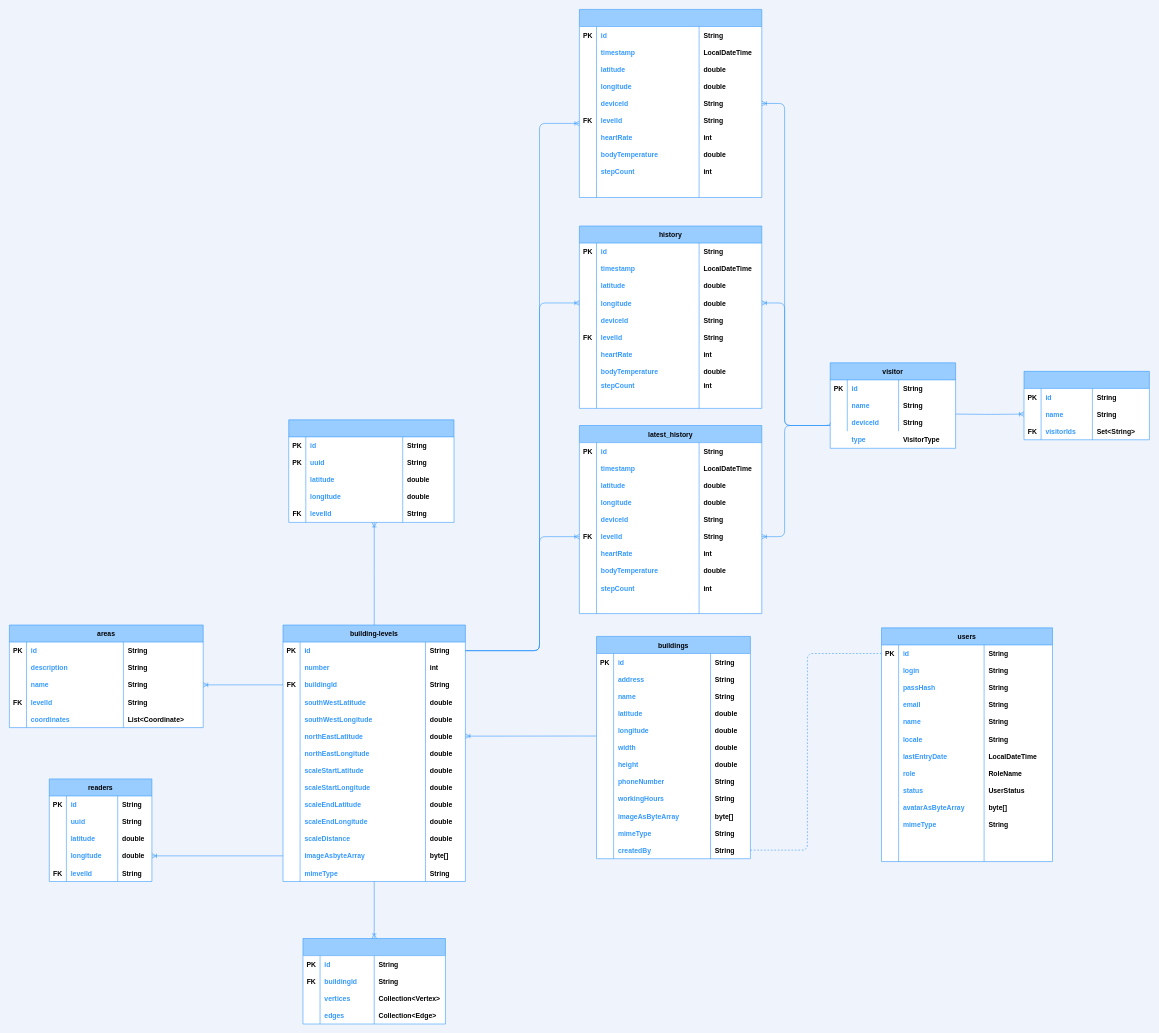
This 1159x1033 diagram has some shape labels left out. The shapes that lost their labels are listed below. From the top down, each one's box as (x1, y1, x2, y2) in pixels, then its label:
(579, 9, 762, 198): position_history
(1023, 371, 1149, 440): visitor_groups
(288, 419, 454, 522): beacons
(302, 938, 445, 1024): graphs
